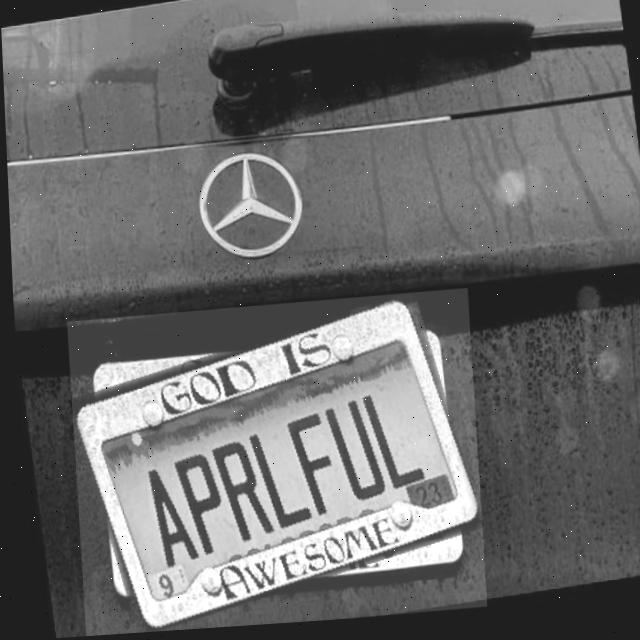LicensePlate: (68, 299, 476, 634)
